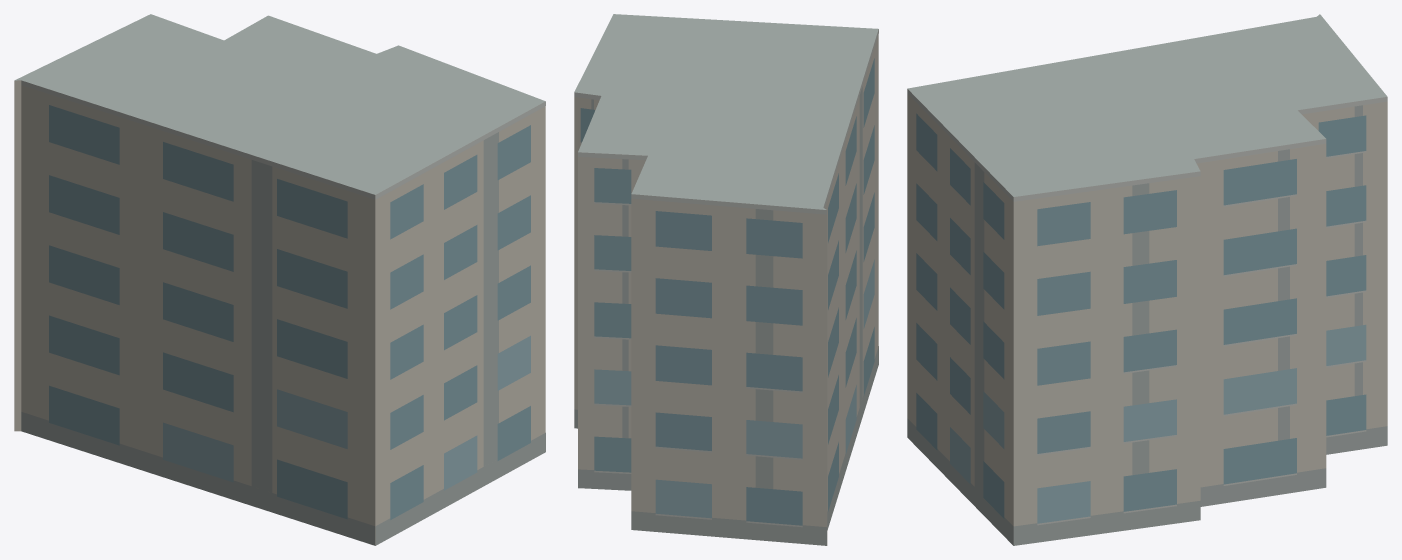
Rendered from survey-upis-32843858.glb.
The picture shows the model from 3 angles, left to right: view 1: azimuth 30°, elevation 25°; view 2: azimuth 150°, elevation 25°; view 3: azimuth 270°, elevation 25°; orthographic projection. The views are drawn at different scales.
Parts seen in each view (by area): view 1: survey-upis-32843858.tmp; view 2: survey-upis-32843858.tmp; view 3: survey-upis-32843858.tmp.
Boxes of the visible parts, <box> form: survey-upis-32843858.tmp: <box>14,14,545,545</box>; survey-upis-32843858.tmp: <box>574,14,878,545</box>; survey-upis-32843858.tmp: <box>907,14,1387,545</box>.
Bounding box in the file's own units: 20.04 × 17.8 × 22.23.
